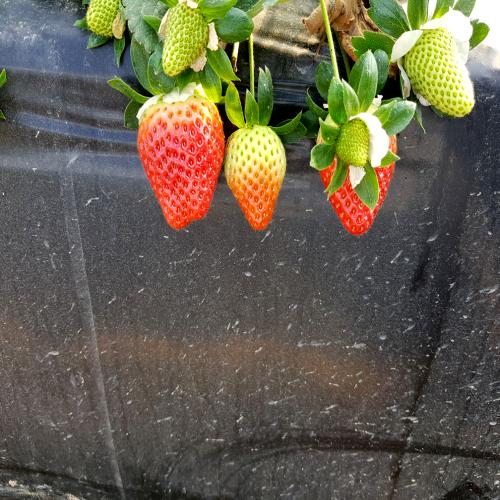partially-ripe: (139, 85, 227, 236), (224, 118, 291, 234)
